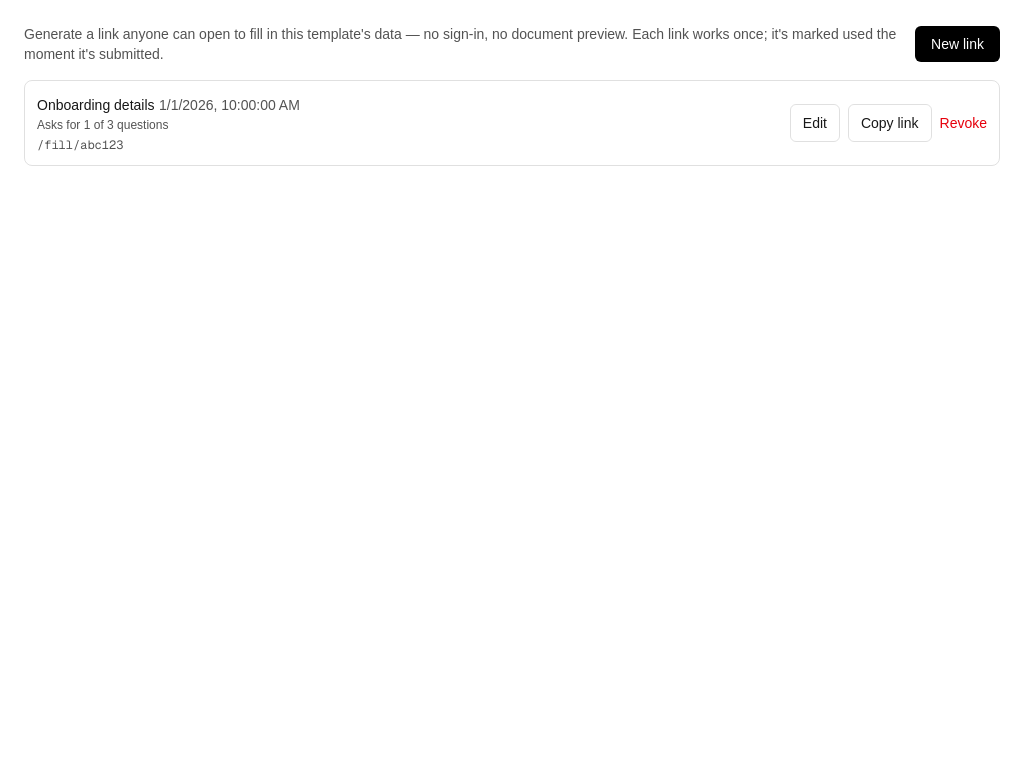
Test case: pending link rows › edits an open link in place, starting from what it already asks
Click the button "Edit": (815, 123) x1=790 y1=104 x2=840 y2=142
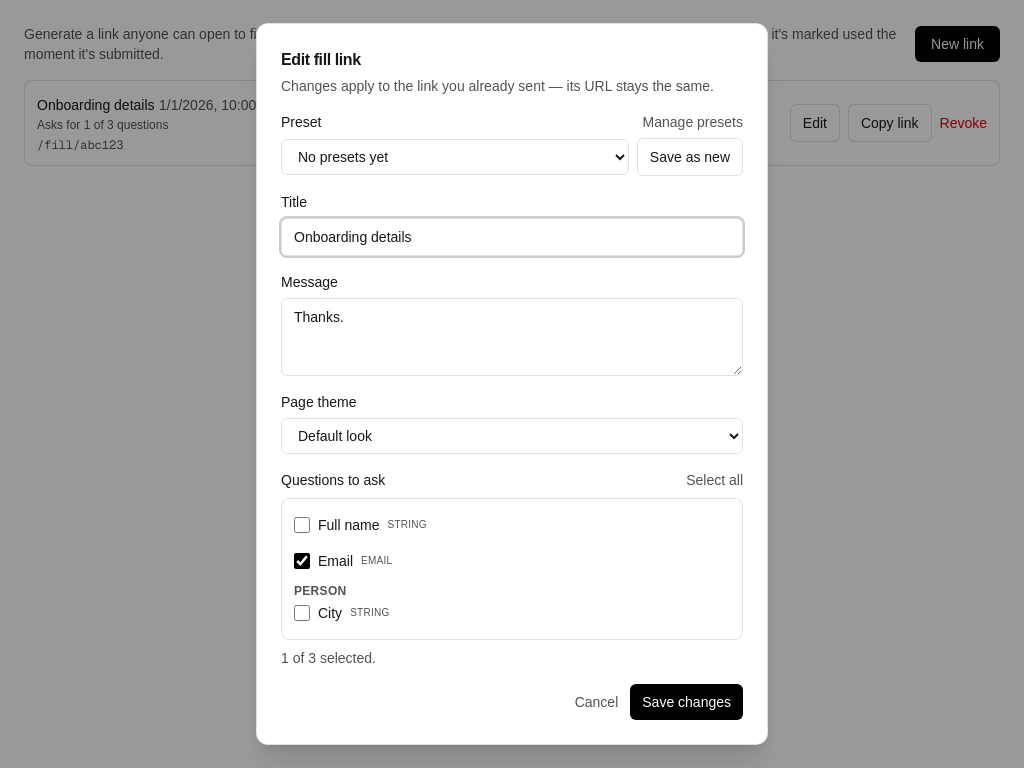
expect the dialog is shown: met, box x1=256 y1=23 x2=768 y2=745
expect the field labelled "Title" holds "Onboarding details": met
expect the checkbox labelled "Email email" is checked: met, box x1=294 y1=553 x2=310 y2=569
Replace the text in the field labelled "Title" with "Updated": (512, 237) x1=281 y1=218 x2=743 y2=256
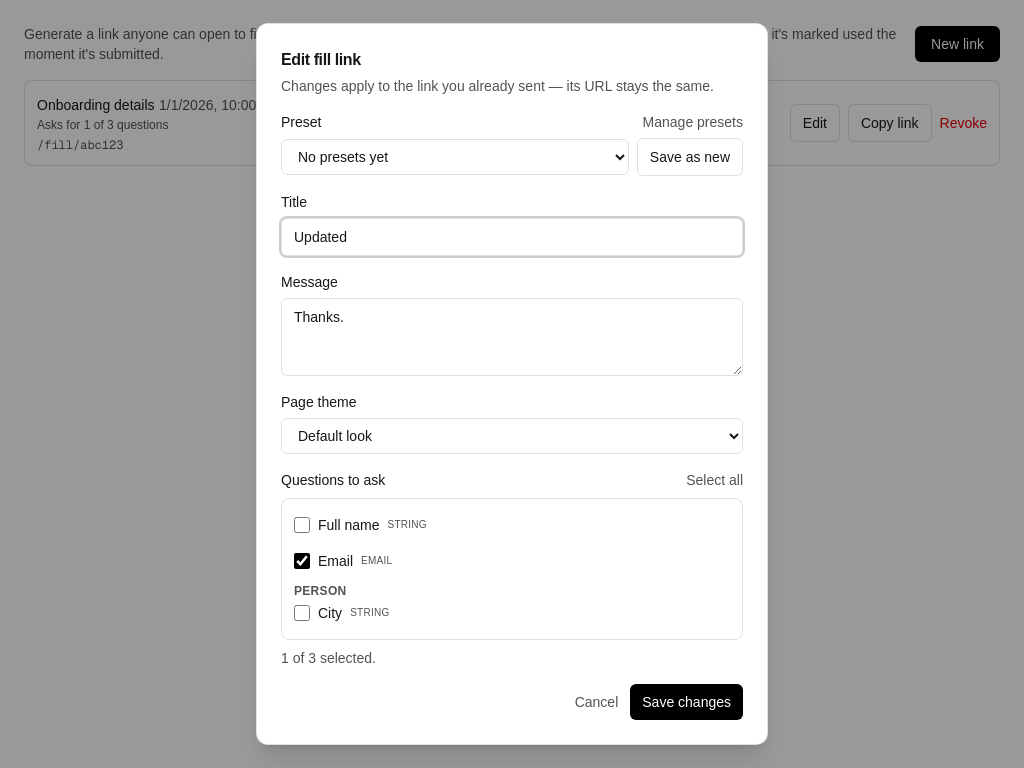
Click the button "Save changes": (687, 702) x1=630 y1=684 x2=743 y2=720
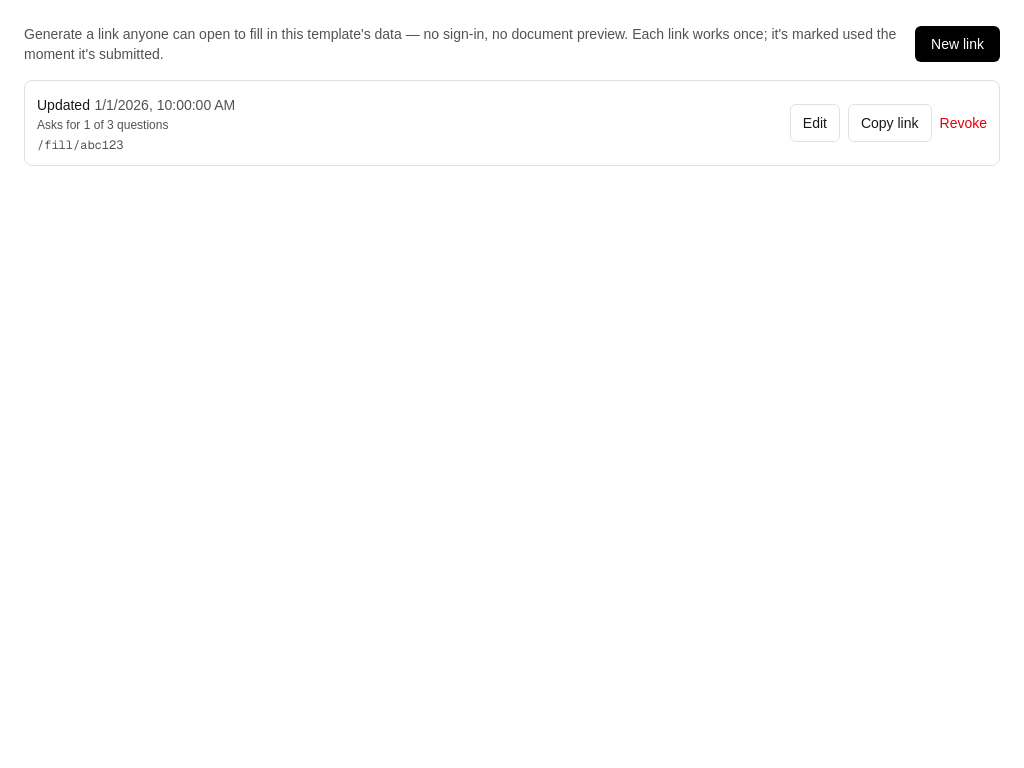
expect the text "Updated" is shown: met, box x1=37 y1=97 x2=90 y2=113
expect the dialog is gone: met
